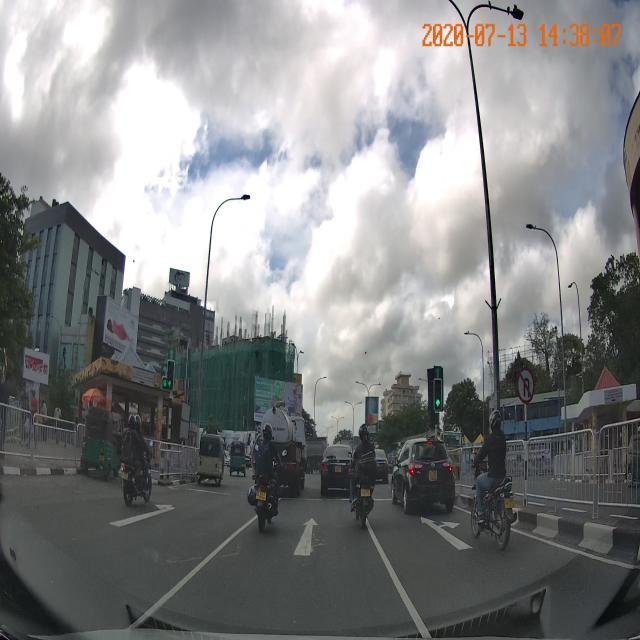forward: (254, 505, 351, 568)
